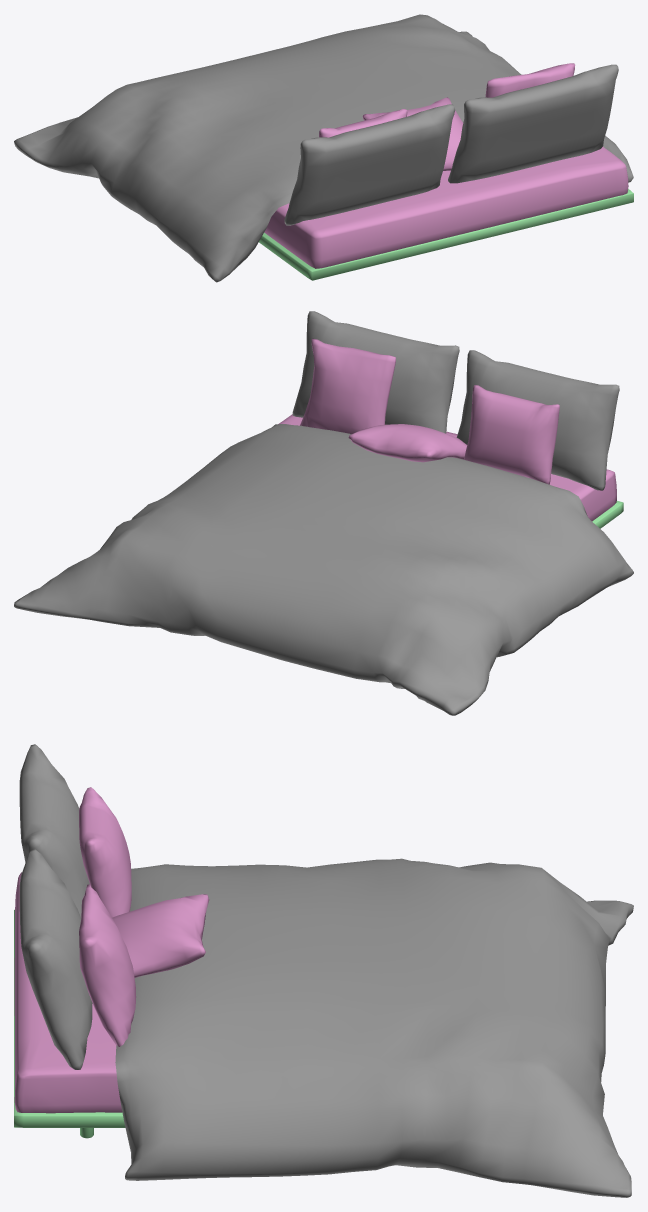
File: Letto matrimoniale.FBX
3 views of the same model, one above another, from view 1: azimuth 30°, elevation 25°; view 2: azimuth 150°, elevation 25°; view 3: azimuth 270°, elevation 25° (orthographic). The views are drawn at different scales.
Visible parts, largest first — view 1: Cylinder074; view 2: Cylinder074; view 3: Cylinder074.
Part boxes in pixels (box(x1,y1,x2,y2)): Cylinder074: box(14, 14, 633, 282); Cylinder074: box(14, 311, 633, 715); Cylinder074: box(14, 744, 633, 1197).
Bounding box in the file's own units: 284 × 95.21 × 255.
